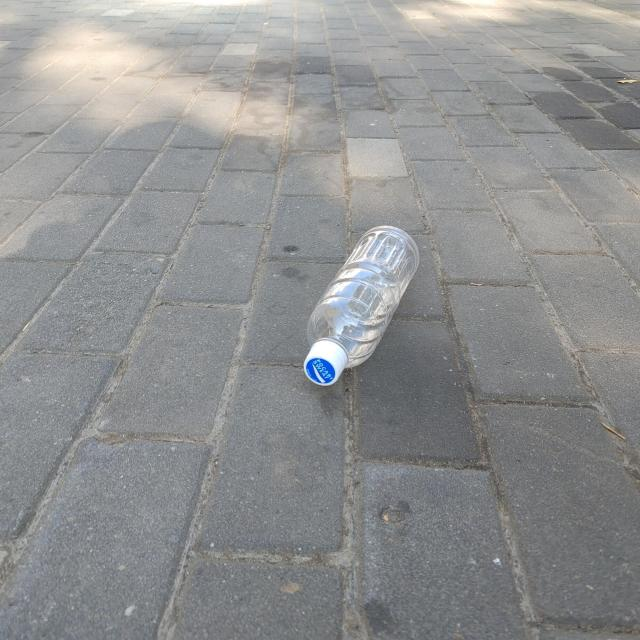plastic: (304, 226, 420, 386)
